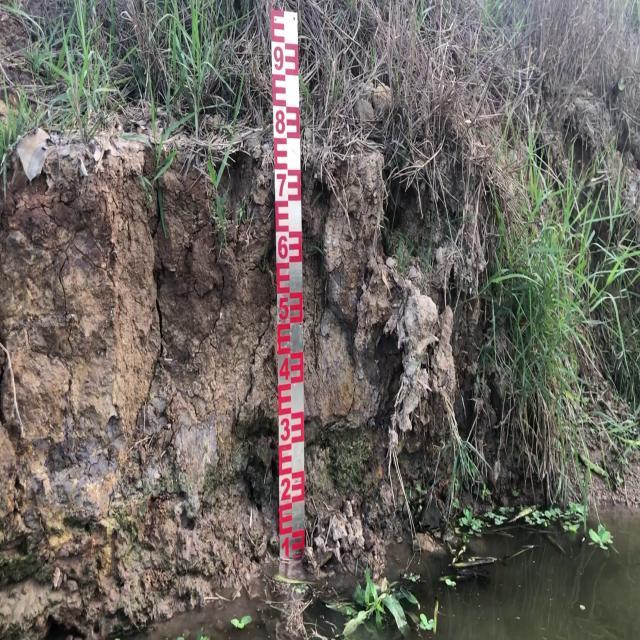ruler: (259, 0, 324, 582)
value: (269, 41, 287, 74), (272, 105, 288, 138), (276, 293, 292, 326), (276, 230, 290, 266), (278, 413, 292, 448), (276, 354, 292, 383), (274, 168, 288, 201), (280, 532, 295, 562), (279, 473, 293, 505)
